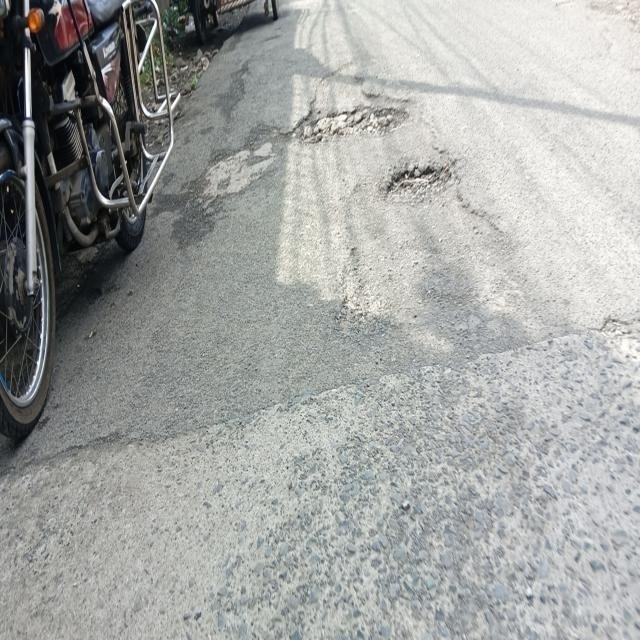pothole: (288, 70, 420, 182), (182, 115, 280, 237), (381, 140, 468, 226)
